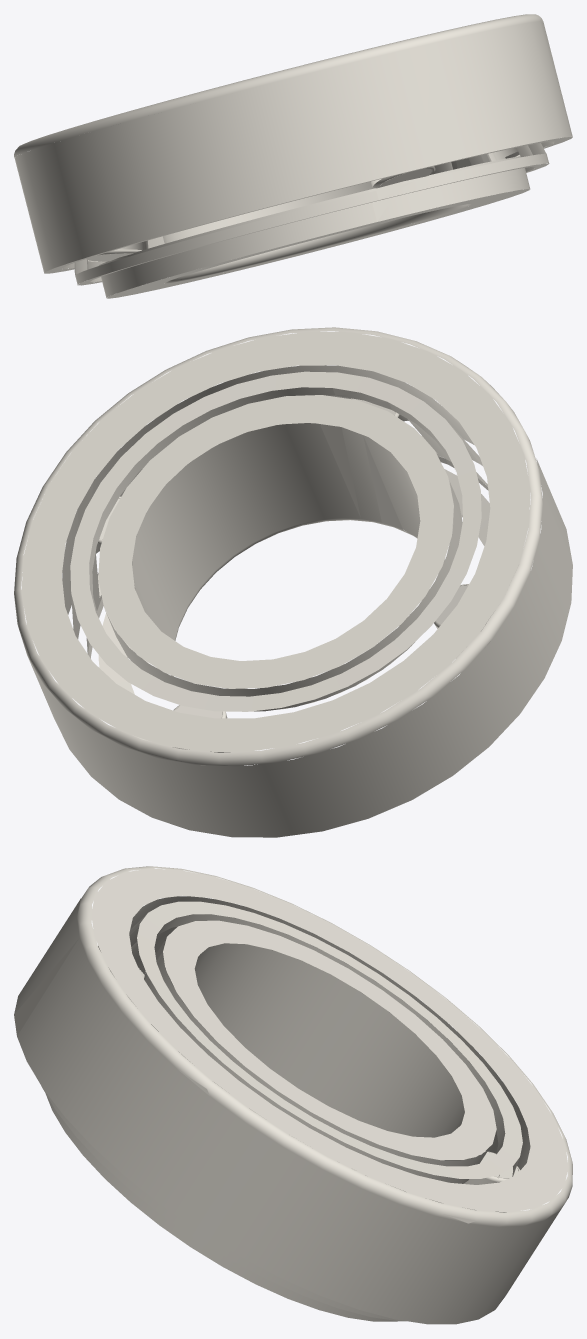
Rendered from Steering Head TRB.glb.
The picture shows the model from 3 angles, top to bottom: view 1: azimuth 30°, elevation 25°; view 2: azimuth 150°, elevation 25°; view 3: azimuth 270°, elevation 25°; orthographic projection. The views are drawn at different scales.
Parts seen in each view (by area): view 1: final bike mod.002; view 2: final bike mod.002; view 3: final bike mod.002.
Part boxes in pixels (x1,y1,x2,y2): final bike mod.002: [14, 14, 572, 298]; final bike mod.002: [14, 327, 572, 837]; final bike mod.002: [14, 866, 572, 1324].
Bounding box in the file's own units: 0.3982 × 0.2835 × 0.3881.
Materials: 1 (1 with a texture image).
